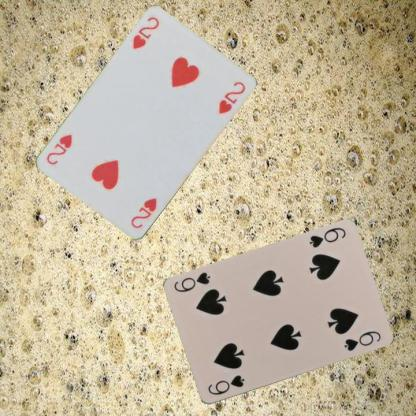2h: (130, 14, 161, 51), (128, 195, 158, 230)
6s: (306, 224, 347, 249), (205, 373, 246, 397)
